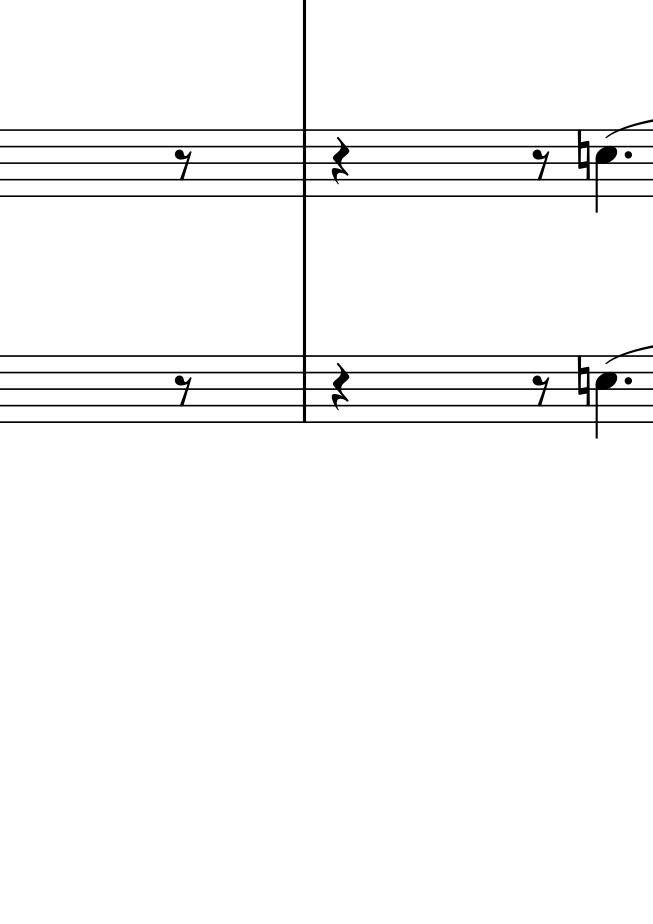4_5: (594, 353, 622, 439), (594, 126, 619, 215)
Natural: (574, 354, 591, 408), (576, 128, 590, 184)
Rests4: (330, 362, 351, 413), (329, 136, 350, 186)
Rests8: (173, 371, 195, 408), (528, 371, 549, 406), (533, 147, 552, 184), (174, 146, 193, 180)
Single_barline: (295, 356, 314, 421), (295, 129, 313, 196), (573, 355, 593, 407), (575, 127, 593, 180)
dot: (621, 375, 634, 388), (621, 148, 634, 160)
